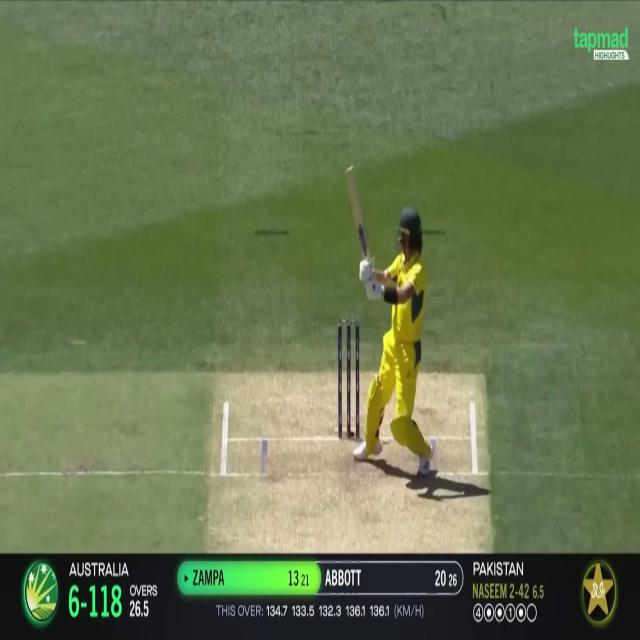Batsman: (356, 135, 445, 480)
